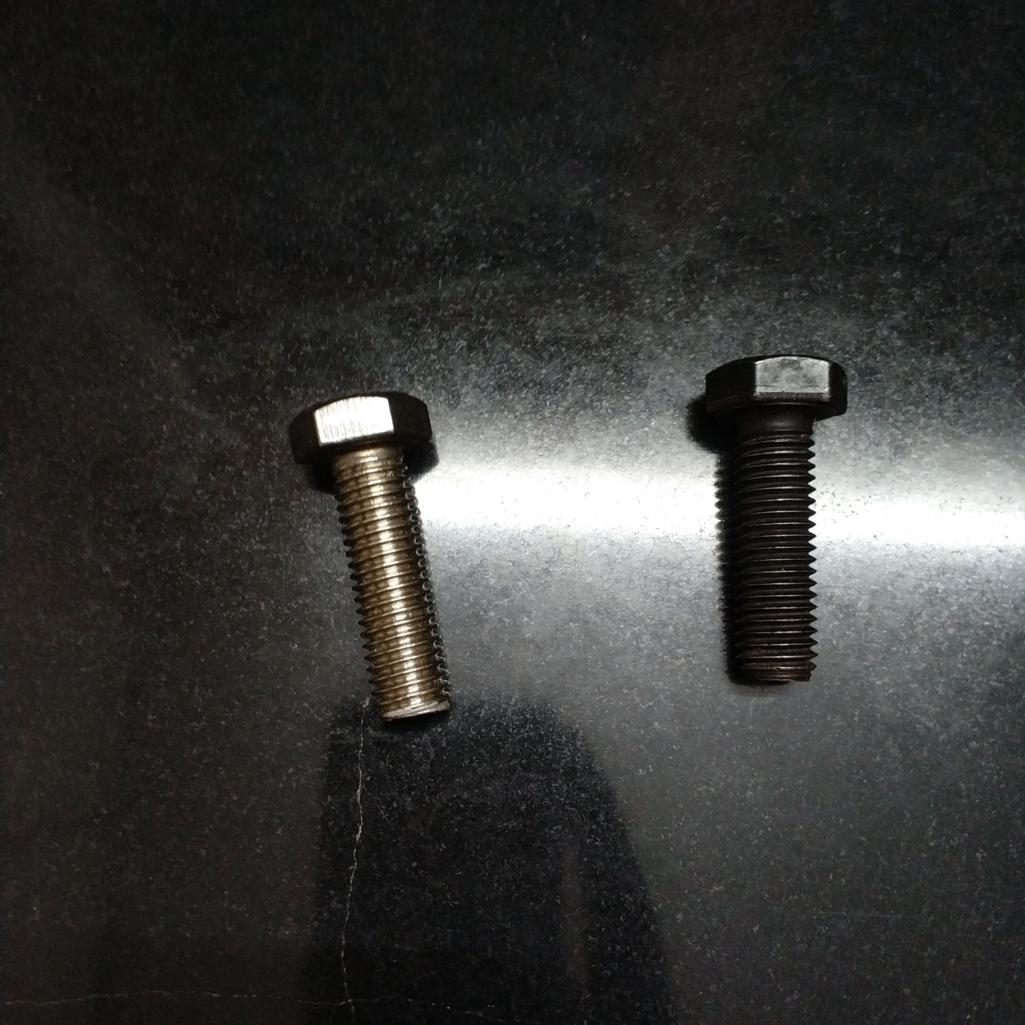screwtype2black: (694, 343, 850, 699)
screwtype2silver: (268, 387, 471, 725)
